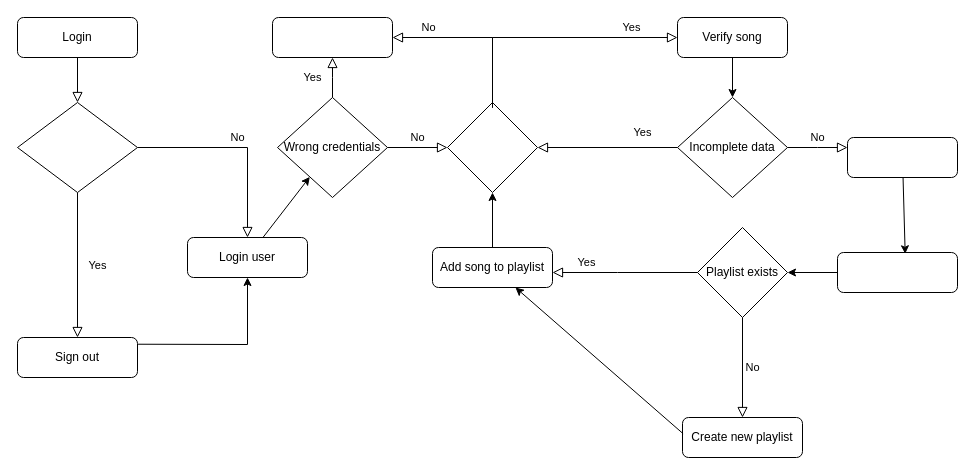
Image size: 975x475. Some labels were removed from this diagram. The shapes that lost their labels are listed below. From the top down, each one's centre as x and y in pixels, then its label:
[332,37]: Exit application
[77,147]: User is already logged in
[492,147]: There are still songs
[902,157]: Search song
[897,272]: Search playlist
